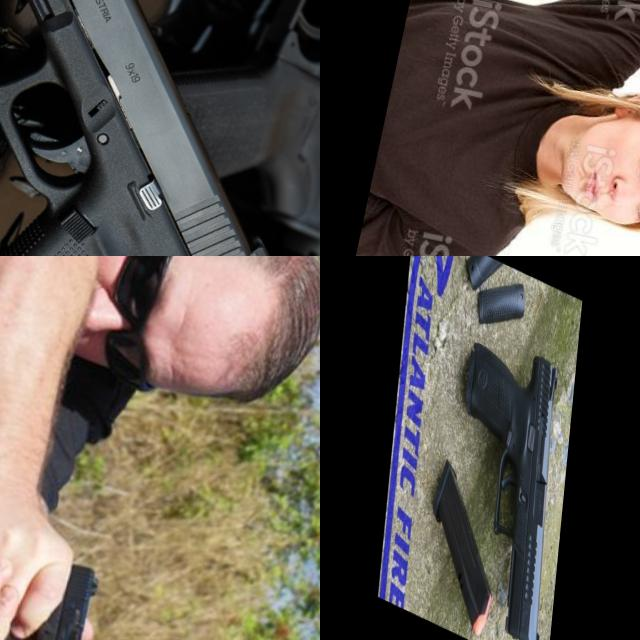handgun: (0, 0, 320, 256), (442, 316, 566, 640), (0, 542, 107, 640)
